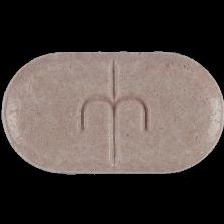61786-570: (0, 0, 224, 224)
